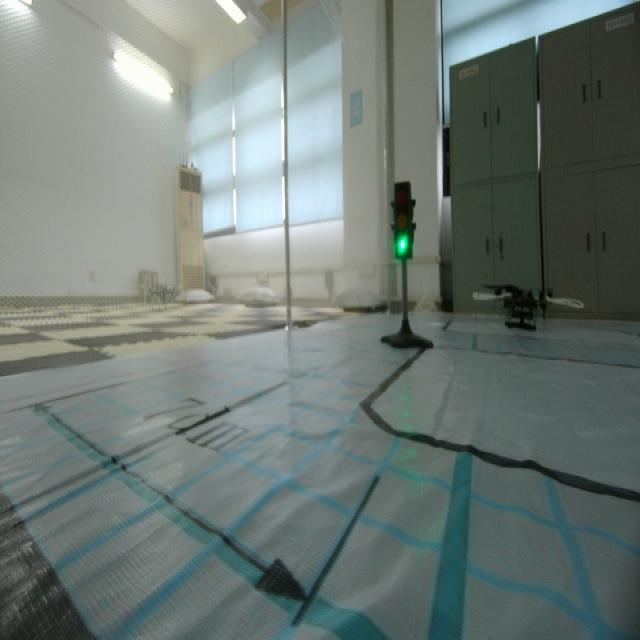green: (389, 180, 415, 259)
